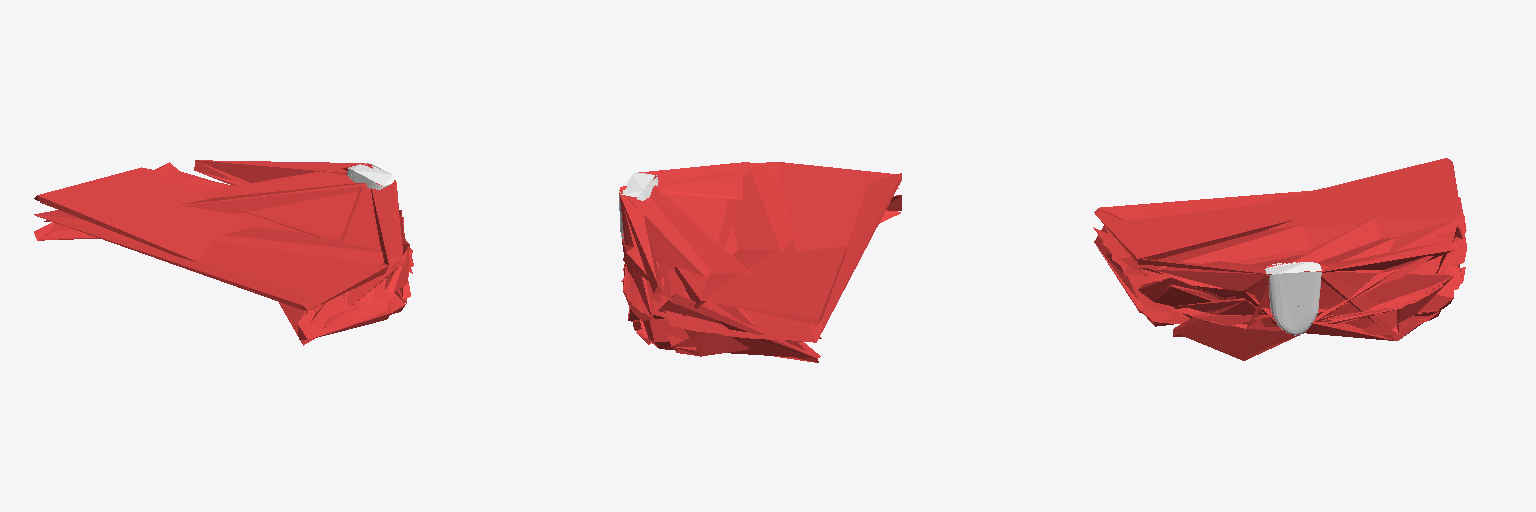
Rendered from Teeth.obj.
3 views of the same model, side by side, from view 1: azimuth 30°, elevation 25°; view 2: azimuth 150°, elevation 25°; view 3: azimuth 270°, elevation 25° (orthographic).
Visible parts, largest first — view 1: Box030, Box015, Box002; view 2: Box030, Box015, Box002; view 3: Box015, Box030, Box001, Box002.
Boxes of the visible parts, <box> form: Box030: <box>34,160,413,343</box>; Box015: <box>34,160,413,345</box>; Box002: <box>347,163,391,188</box>; Box030: <box>619,162,901,362</box>; Box015: <box>620,162,901,357</box>; Box002: <box>619,174,656,200</box>; Box015: <box>1093,190,1466,360</box>; Box030: <box>1095,158,1465,360</box>; Box001: <box>1265,262,1321,335</box>; Box002: <box>1265,262,1320,335</box>.
Bounding box in the file's own units: 367458 × 125200 × 438227.